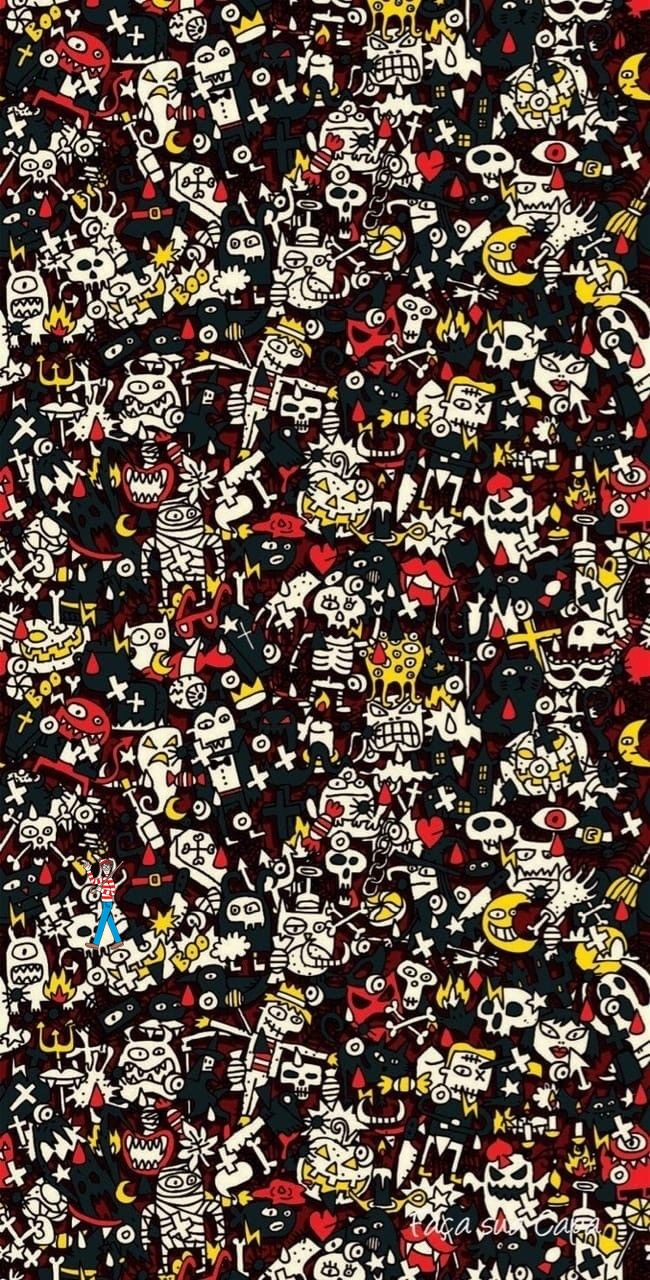waldo: (83, 858, 124, 950)
